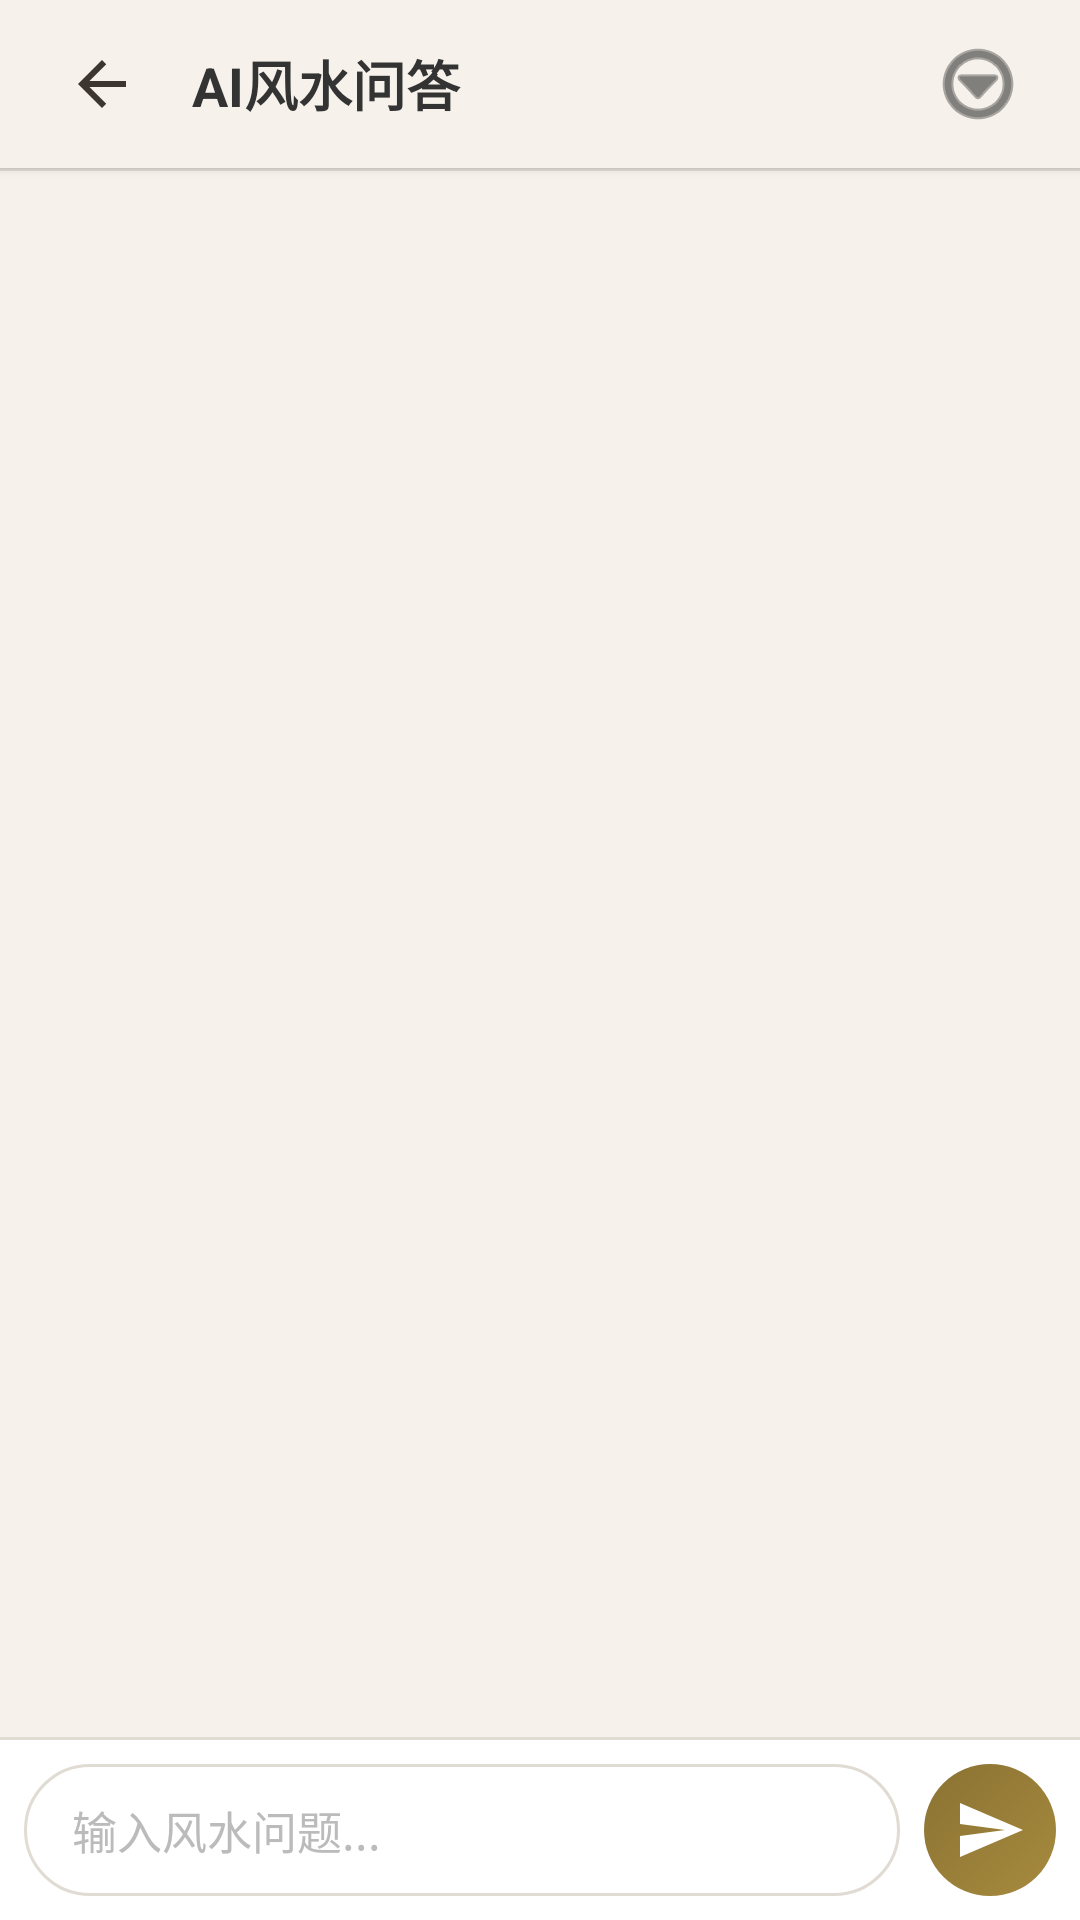

Named icons in this screenshot (1080w x 1920h) and their centers, point (x, y):
发送: point (990, 1830)
菜单: point (978, 84)
返回: point (102, 84)
